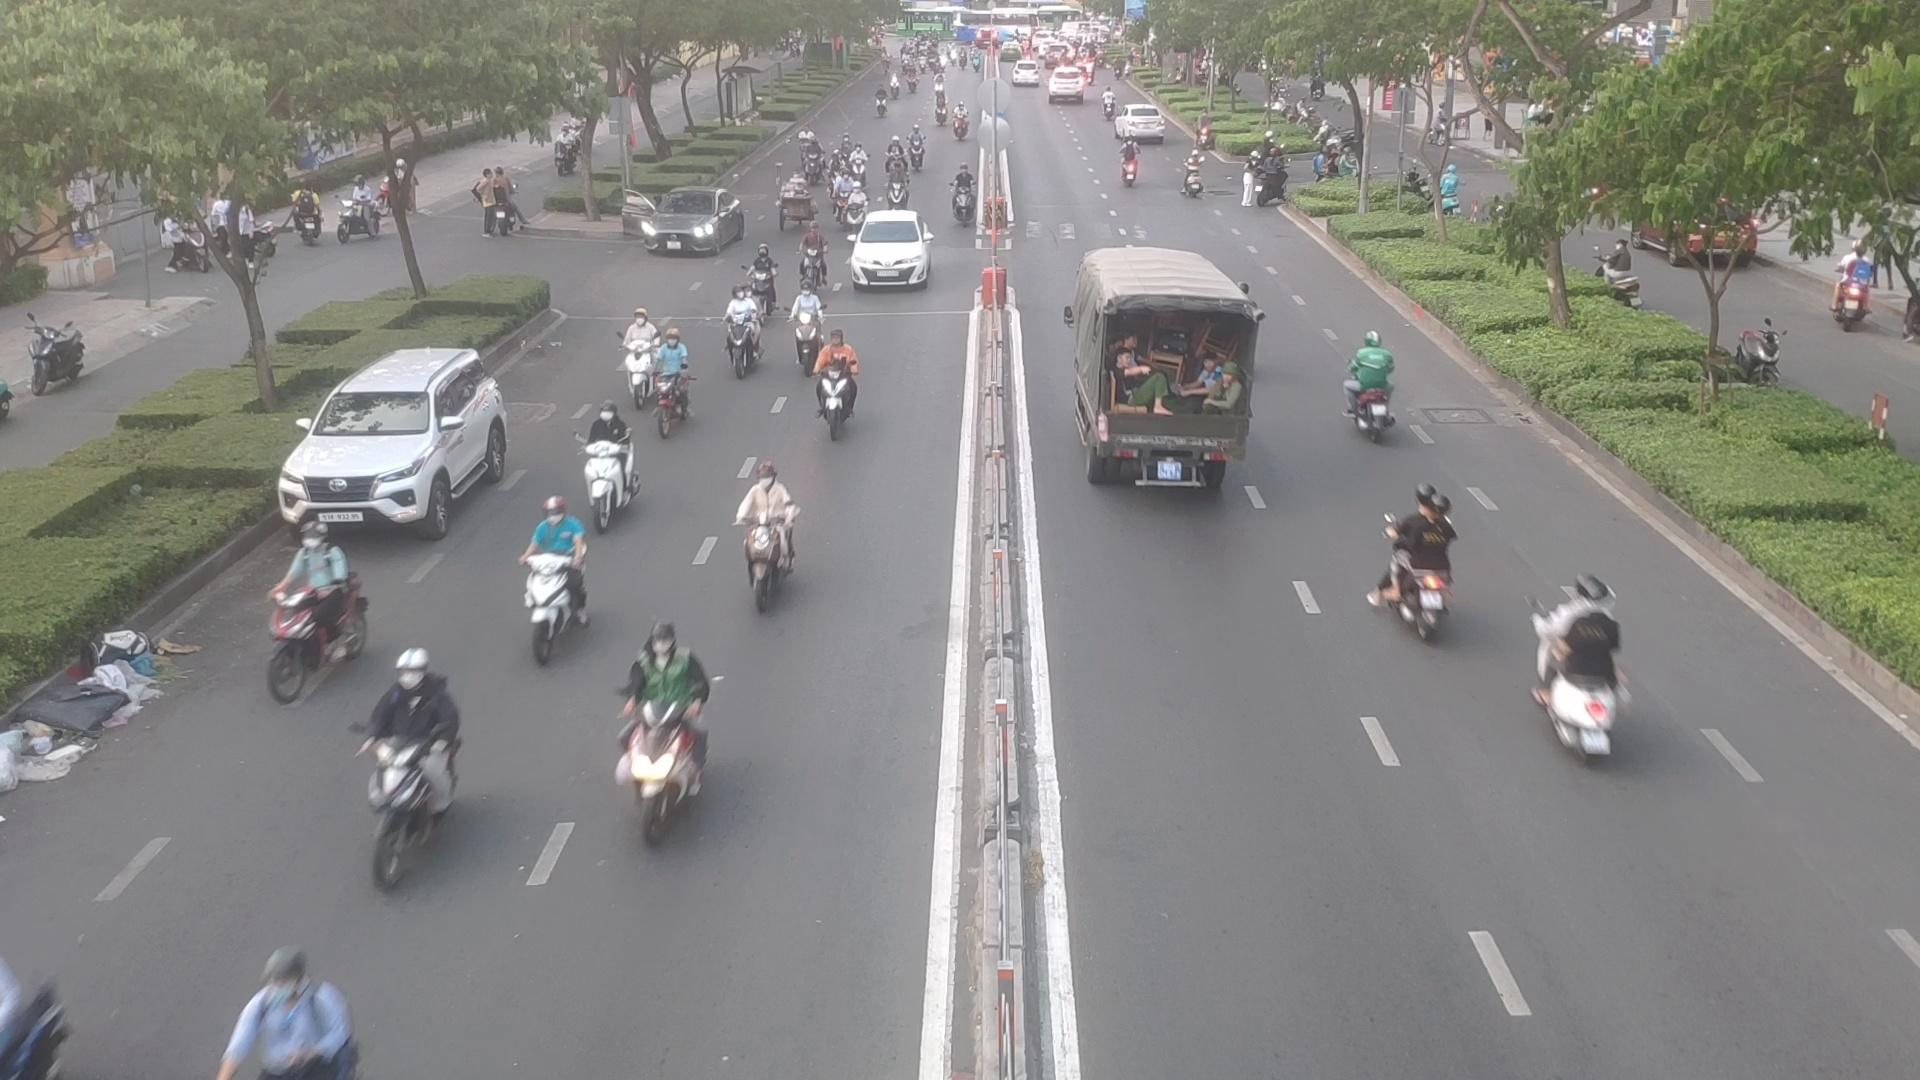car: (1071, 247, 1267, 516), (278, 345, 516, 537), (618, 189, 742, 258), (843, 215, 930, 291)
motorbike: (349, 636, 458, 862), (628, 622, 738, 843), (1542, 580, 1623, 774), (728, 443, 808, 618), (265, 533, 355, 686), (508, 502, 587, 651), (583, 404, 647, 524), (1396, 513, 1451, 654), (1342, 338, 1400, 451), (818, 328, 853, 456), (651, 338, 695, 435), (721, 290, 762, 378), (791, 287, 819, 367), (748, 243, 777, 316), (621, 305, 644, 400), (798, 222, 825, 295), (953, 164, 975, 223), (1120, 137, 1145, 183), (1182, 148, 1201, 200), (845, 186, 866, 235), (909, 127, 928, 169), (804, 142, 822, 179), (851, 152, 868, 185), (887, 138, 905, 171), (889, 167, 902, 210), (833, 175, 847, 214)
